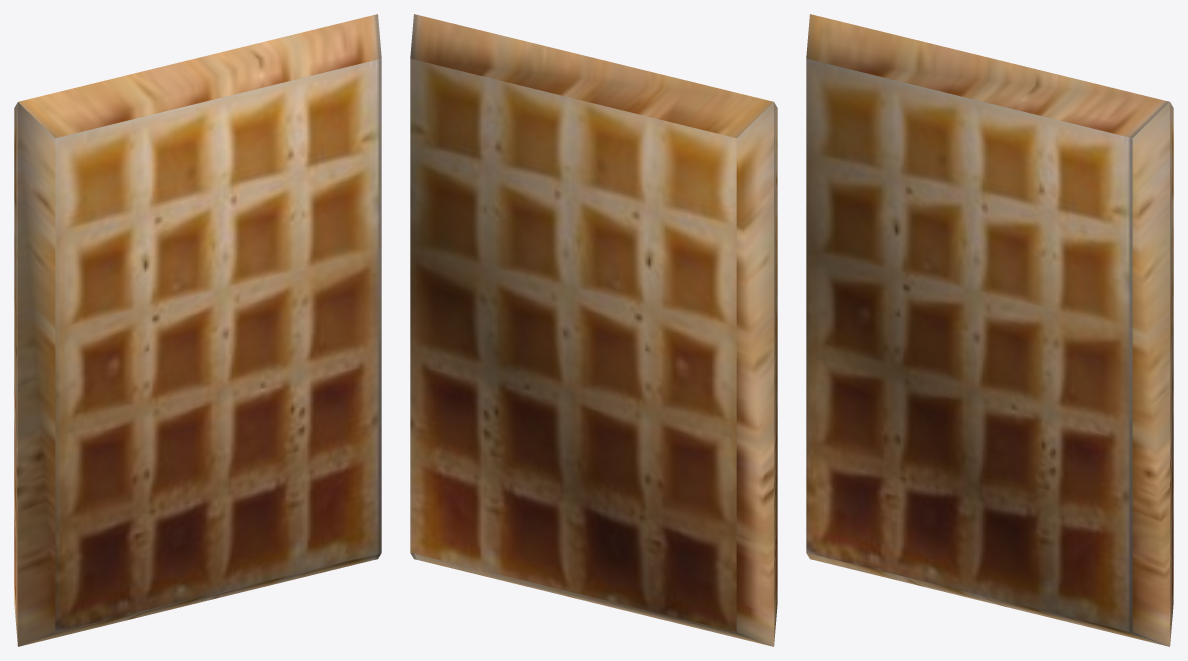
Rendered from Waffle.glb.
The picture shows the model from 3 angles, left to right: view 1: azimuth 30°, elevation 25°; view 2: azimuth 150°, elevation 25°; view 3: azimuth 330°, elevation 25°; orthographic projection.
Parts seen in each view (by area): view 1: Waffle; view 2: Waffle; view 3: Waffle.
Boxes of the visible parts, bbox=[...] form: Waffle: bbox=[14, 14, 381, 646]; Waffle: bbox=[410, 14, 777, 646]; Waffle: bbox=[806, 14, 1173, 646].
Bounding box in the file's own units: 0.1647 × 0.2383 × 0.0325.
1 material, 1 textured.
